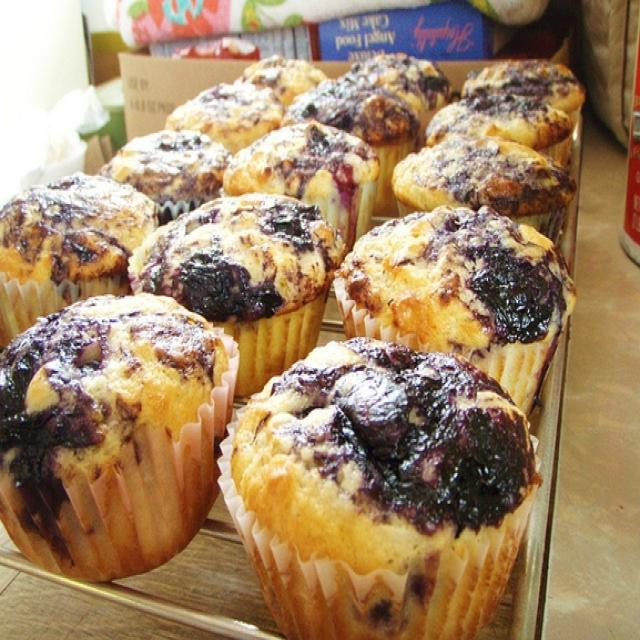炸货点心: (6, 50, 584, 625)
面包点心: (6, 50, 584, 625)
